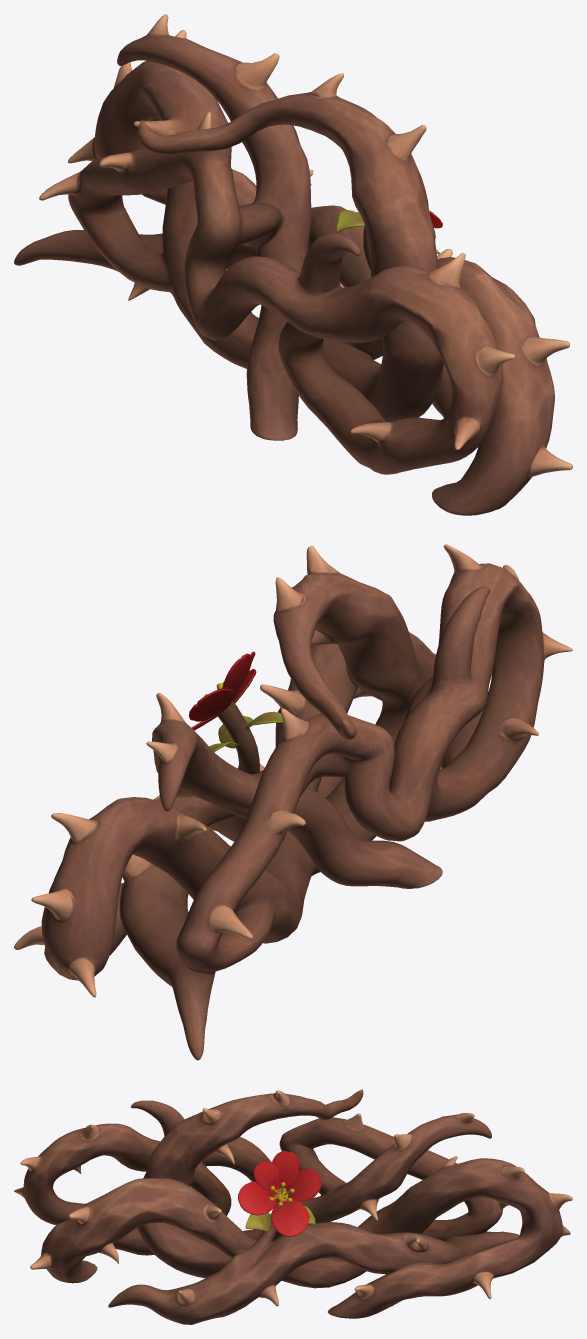
File: C42_thorn.fbx
The picture shows the model from 3 angles, top to bottom: view 1: azimuth 30°, elevation 25°; view 2: azimuth 150°, elevation 25°; view 3: azimuth 270°, elevation 25°; orthographic projection. The views are drawn at different scales.
Parts seen in each view (by area): view 1: tripo_node_40ab2766; view 2: tripo_node_40ab2766; view 3: tripo_node_40ab2766.
Boxes of the visible parts, x1,y1,x2,y2 form: tripo_node_40ab2766: (14, 14, 572, 515); tripo_node_40ab2766: (14, 544, 572, 1060); tripo_node_40ab2766: (14, 1089, 572, 1324).
Size of the model in its own units: 0.3394 by 0.4155 by 0.9995.
